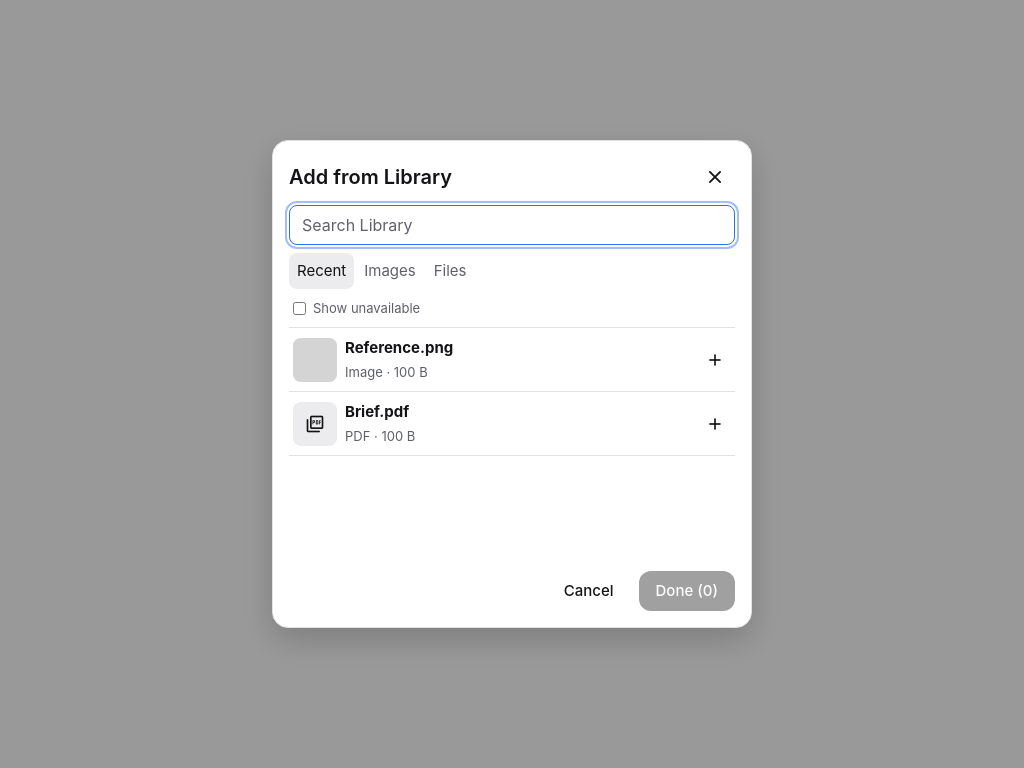
Scenario: LibraryPicker › hides download-only items by default and reveals a disabled reason
This screenshot has width=1024, height=768.
Expected: the text "Reference.png" is shown, x1=345 y1=338 x2=453 y2=356
Expected: the text "Assets.zip" is not shown
Click the checkbox labelled "Show unavailable".
click(300, 308)  # box x1=293 y1=302 x2=306 y2=314
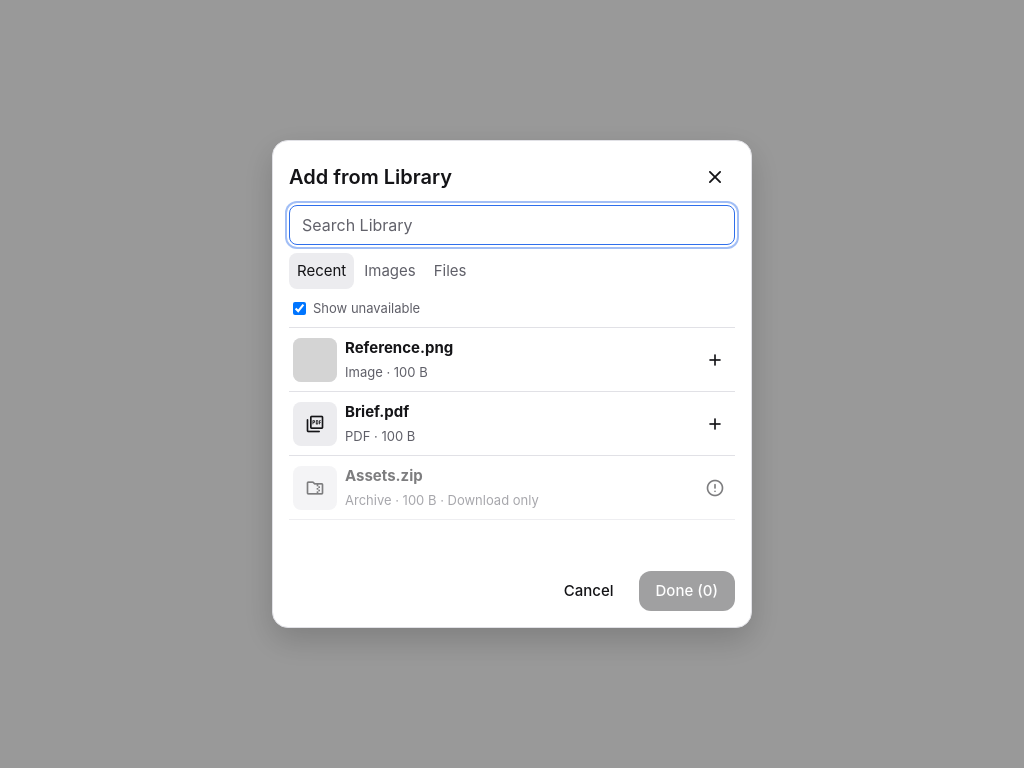
Expected: the button "Assets.zip Archive · 100 B · Download only" is disabled, x1=289 y1=456 x2=735 y2=520
